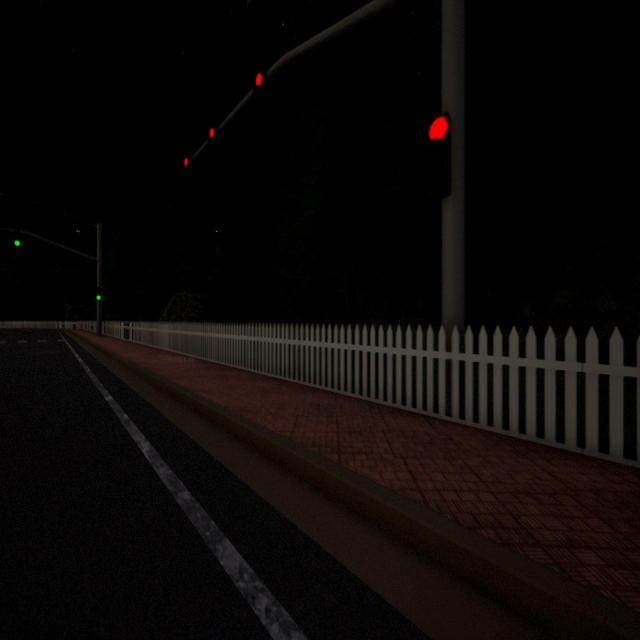traffic_light: (426, 112, 452, 200), (252, 70, 265, 89), (206, 126, 217, 140), (182, 154, 191, 170), (14, 230, 20, 246), (96, 287, 102, 301)
